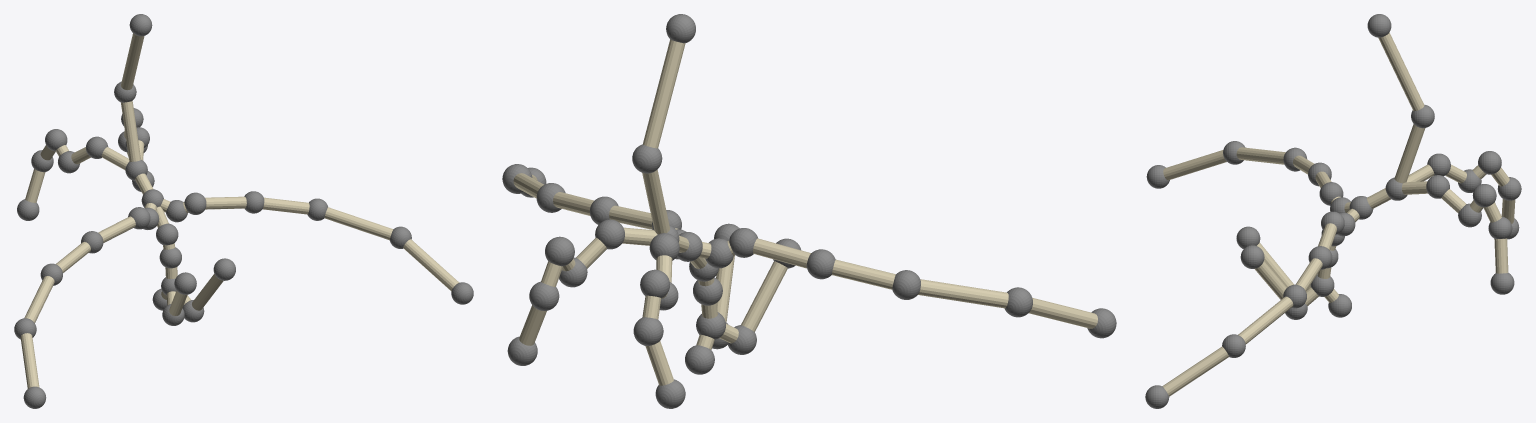
The picture shows the model from 3 angles, left to right: view 1: azimuth 30°, elevation 25°; view 2: azimuth 150°, elevation 25°; view 3: azimuth 270°, elevation 25°; orthographic projection. The views are drawn at different scales.
Parts seen in each view (by area): view 1: world; view 2: world; view 3: world.
Part boxes in pixels (box(x1,y1,x2,y2)): world: box(14, 14, 473, 408); world: box(502, 14, 1116, 408); world: box(1145, 14, 1521, 408).
Bounding box in the file's own units: 0.6872 × 0.4152 × 0.4732.
